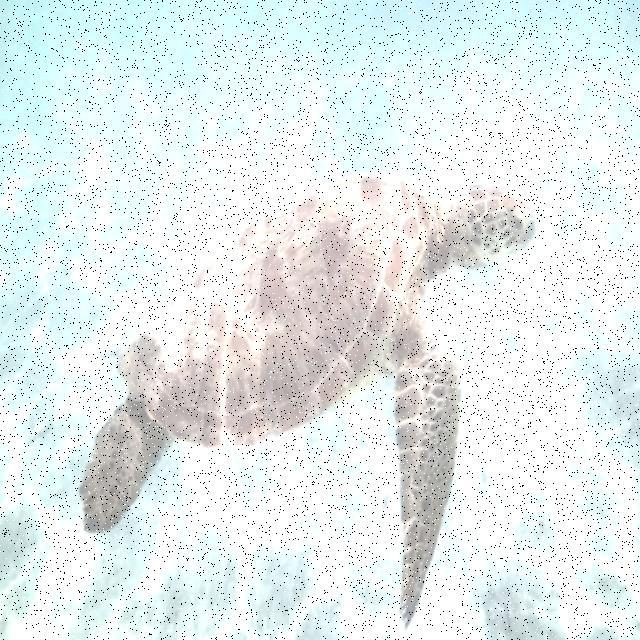tortoise: (56, 140, 548, 630)
